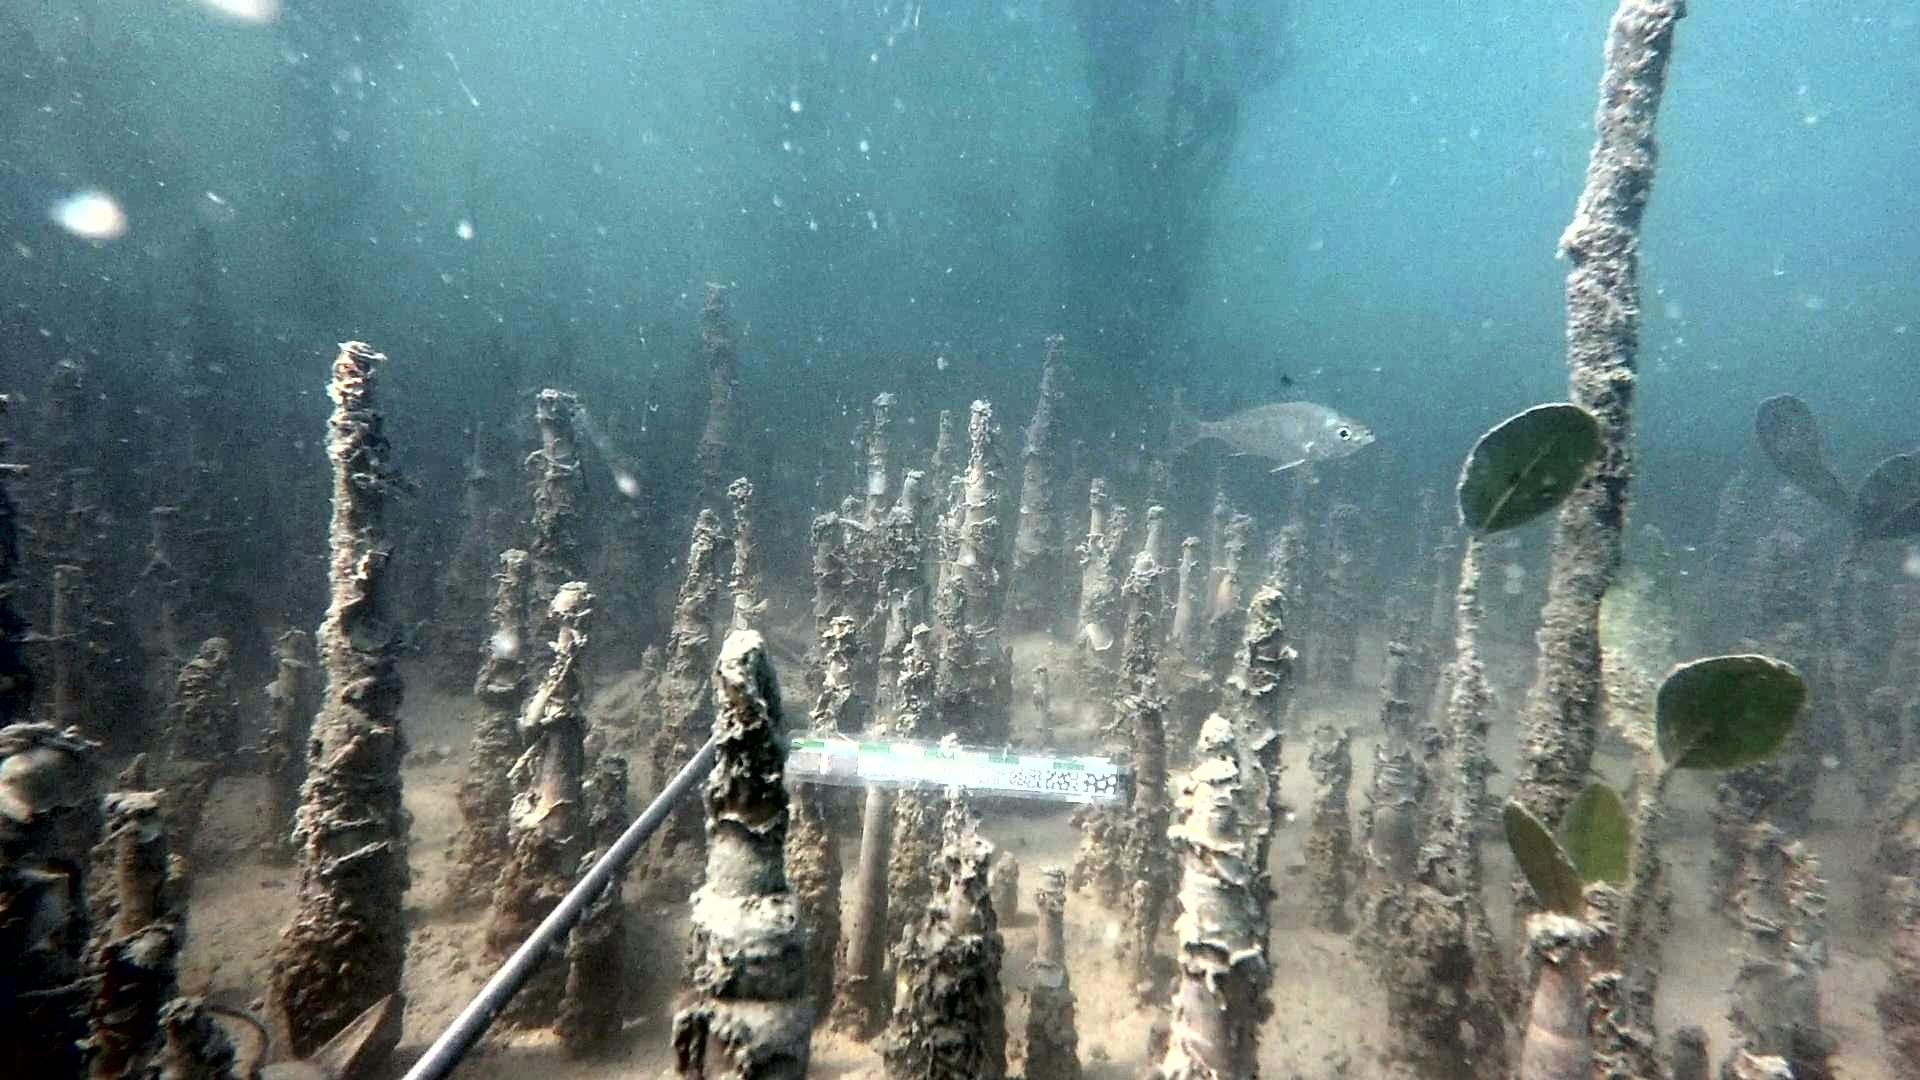gerres: (1159, 371, 1379, 475)
